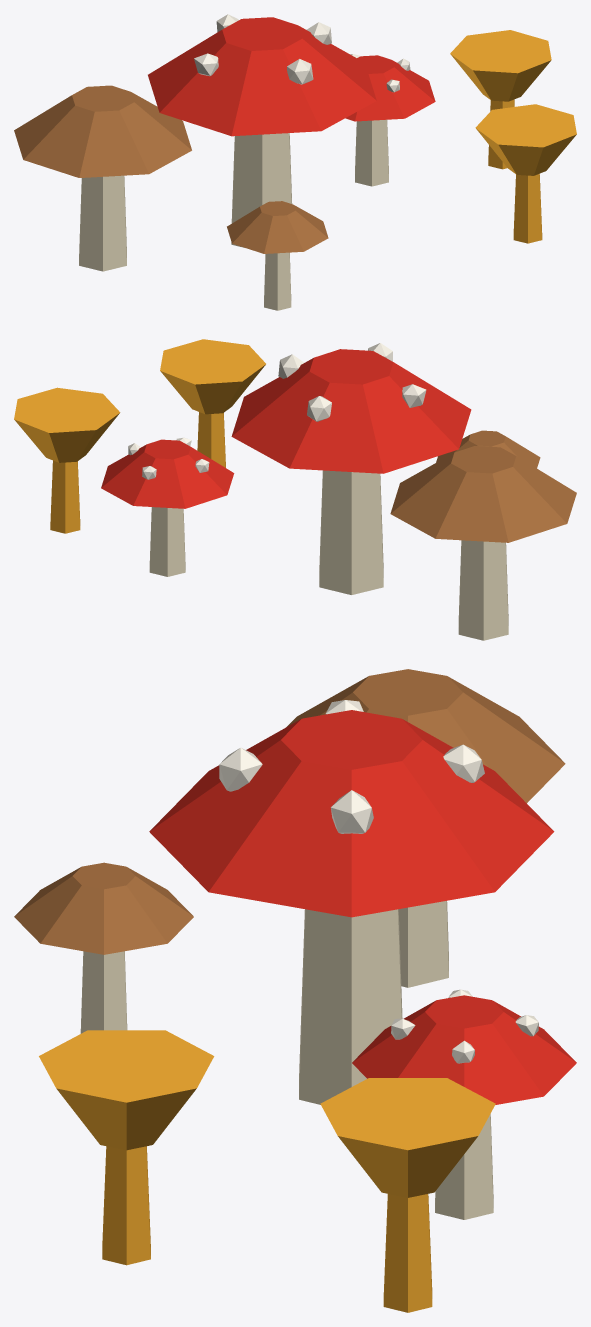
The model's file is Mushrooms.fbx.
The picture shows the model from 3 angles, top to bottom: view 1: azimuth 30°, elevation 25°; view 2: azimuth 150°, elevation 25°; view 3: azimuth 270°, elevation 25°; orthographic projection. The views are drawn at different scales.
Visible parts, largest first — view 1: Mushrooms; view 2: Mushrooms; view 3: Mushrooms.
Boxes of the visible parts, x1,y1,x2,y2 form: Mushrooms: (14, 14, 576, 310); Mushrooms: (14, 339, 576, 640); Mushrooms: (14, 669, 576, 1312).
Bounding box in the file's own units: 0.92 × 0.34 × 0.5.
